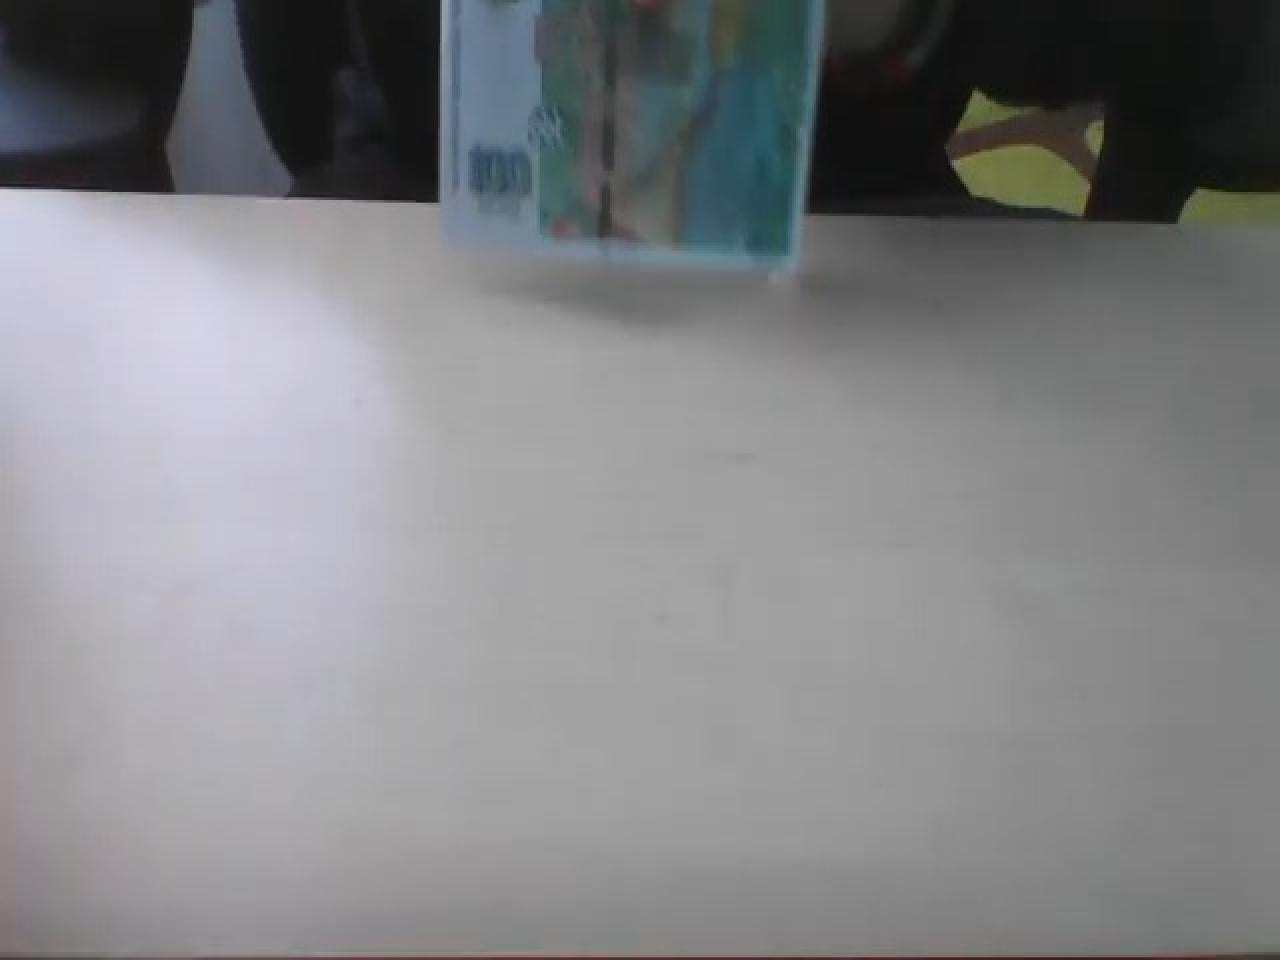100leva: (436, 0, 828, 277)
